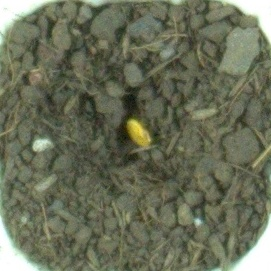chilli seed: (123, 116, 154, 148)
